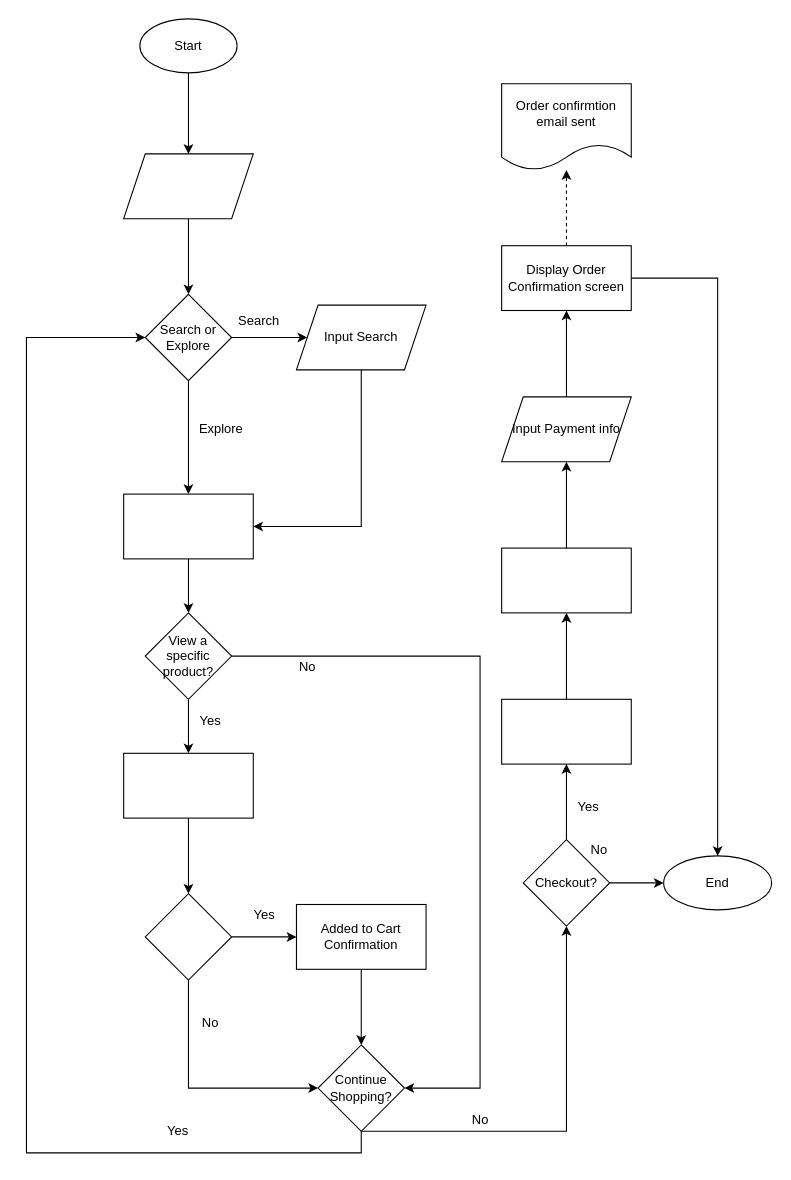
Some shapes in this 791 by 1180 pixel diagram are drawn without their labels. Here are the shapes that lost their labels. From the top down, the centre of each, then its label:
[188,186]: Enter Website
[188,526]: Look Over Products
[566,580]: Display View Payment screen
[566,731]: Display View Cart Screen
[188,785]: Open Product's Webpage
[188,936]: Add to Cart?
